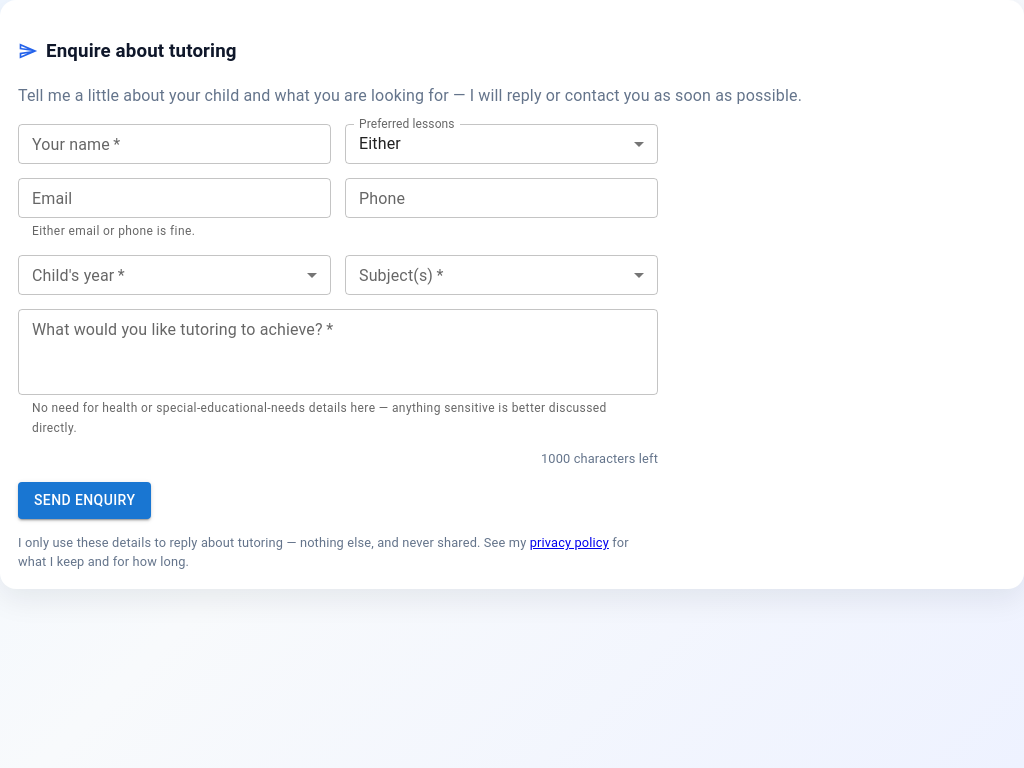
Test: EnquireView › offers the published subjects, never unpublished ones
Click the dropdown named "subject" next to "Subject(s)": click(502, 275) [345,255,658,295]
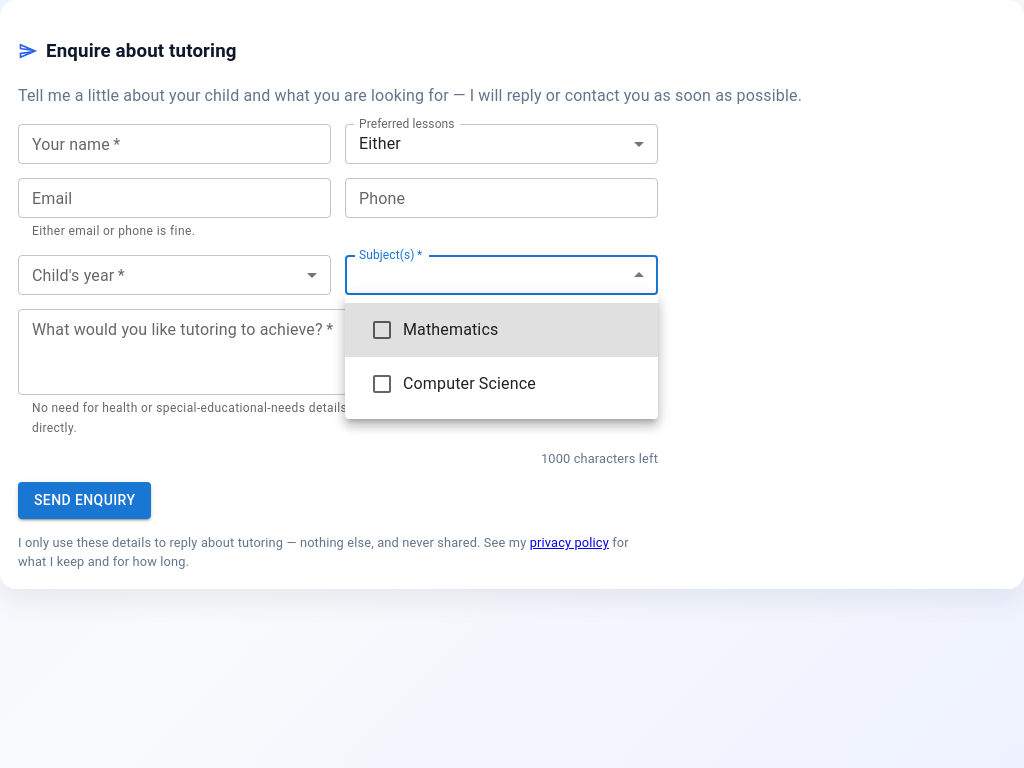
Expected: the option "Computer Science" is shown, [370,372,536,396]
